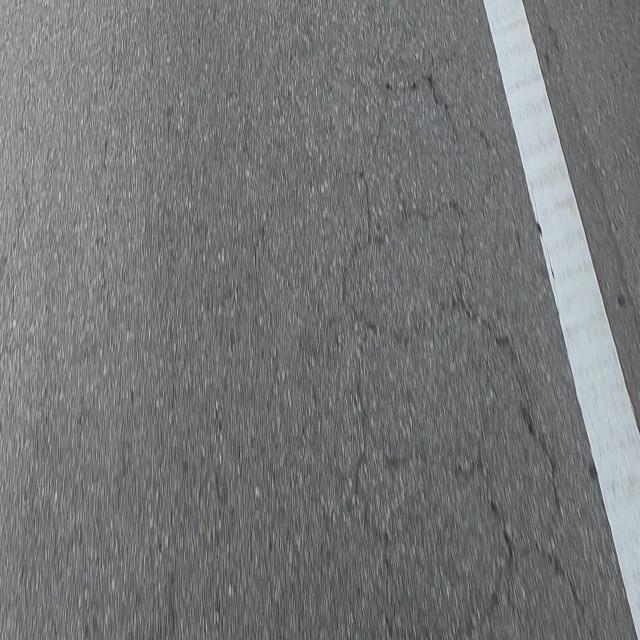Retak-Buaya: (338, 76, 583, 637)
